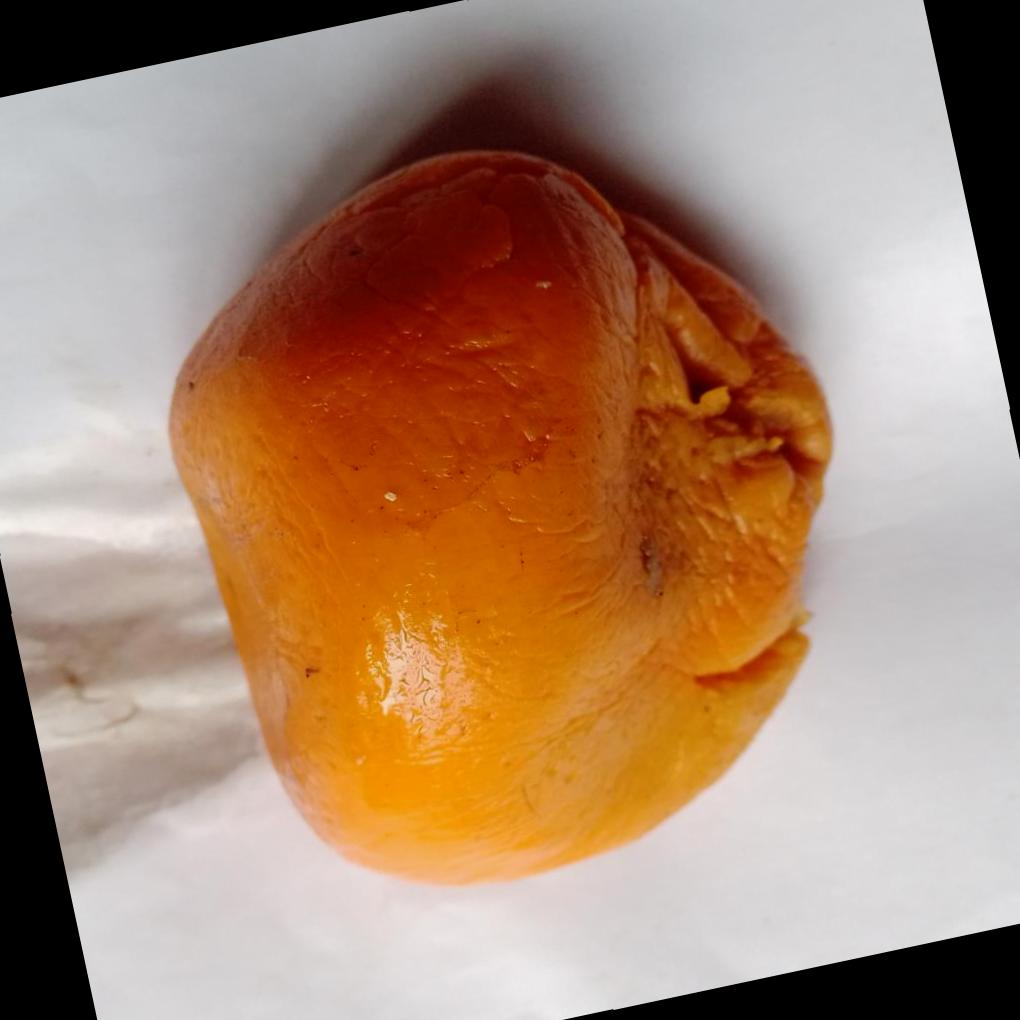FreshOrange: (166, 148, 836, 892)
